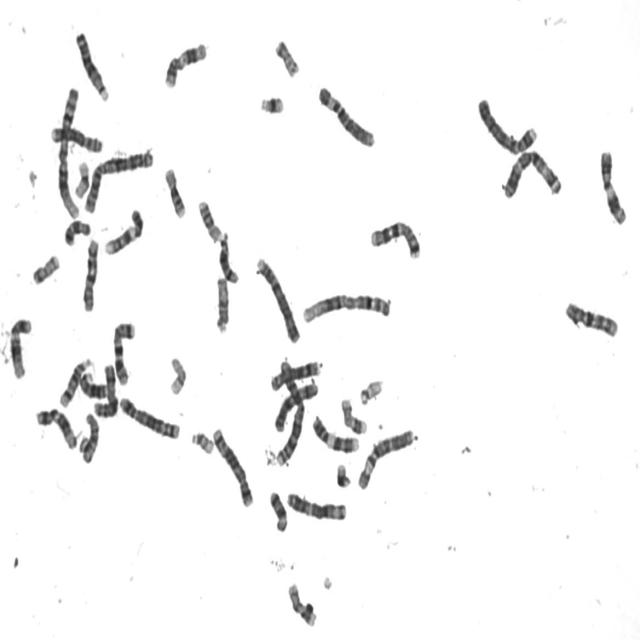A1: (54, 80, 82, 221), (298, 285, 394, 326)
A2: (81, 142, 157, 214), (272, 354, 306, 468)
A3: (500, 144, 564, 200), (284, 486, 348, 522)
B4: (253, 250, 302, 344), (474, 90, 540, 156)
B5: (209, 421, 256, 508), (116, 390, 183, 441)
C10: (562, 295, 621, 339), (79, 232, 101, 314)
C11: (596, 142, 629, 226), (161, 34, 210, 90)
C12: (32, 402, 80, 451), (7, 311, 34, 381)
C6: (354, 422, 416, 492), (315, 79, 377, 149)
C7: (366, 214, 423, 261), (110, 314, 138, 387)
C8: (267, 354, 324, 392), (46, 118, 106, 154)
C9: (101, 202, 146, 256), (309, 410, 362, 455)
D13: (72, 25, 111, 102), (75, 367, 108, 399)
D14: (56, 352, 96, 408), (216, 225, 241, 284)
D15: (78, 406, 101, 464), (213, 270, 232, 335)
E16: (161, 160, 188, 220), (195, 193, 223, 244)
E17: (285, 577, 319, 628), (338, 392, 369, 436)
E18: (266, 485, 289, 533), (61, 214, 93, 248)
F19: (166, 349, 189, 396), (71, 155, 92, 199)
F20: (272, 32, 302, 78), (29, 248, 62, 286)
G21: (257, 88, 286, 116), (333, 457, 353, 489)
G22: (356, 372, 385, 407), (188, 425, 216, 455)
X: (271, 375, 321, 434), (90, 358, 120, 419)
